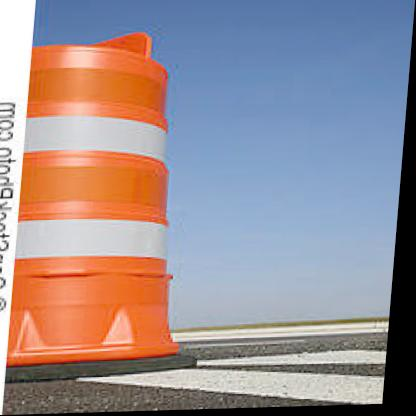obstacle: (7, 25, 213, 381)
